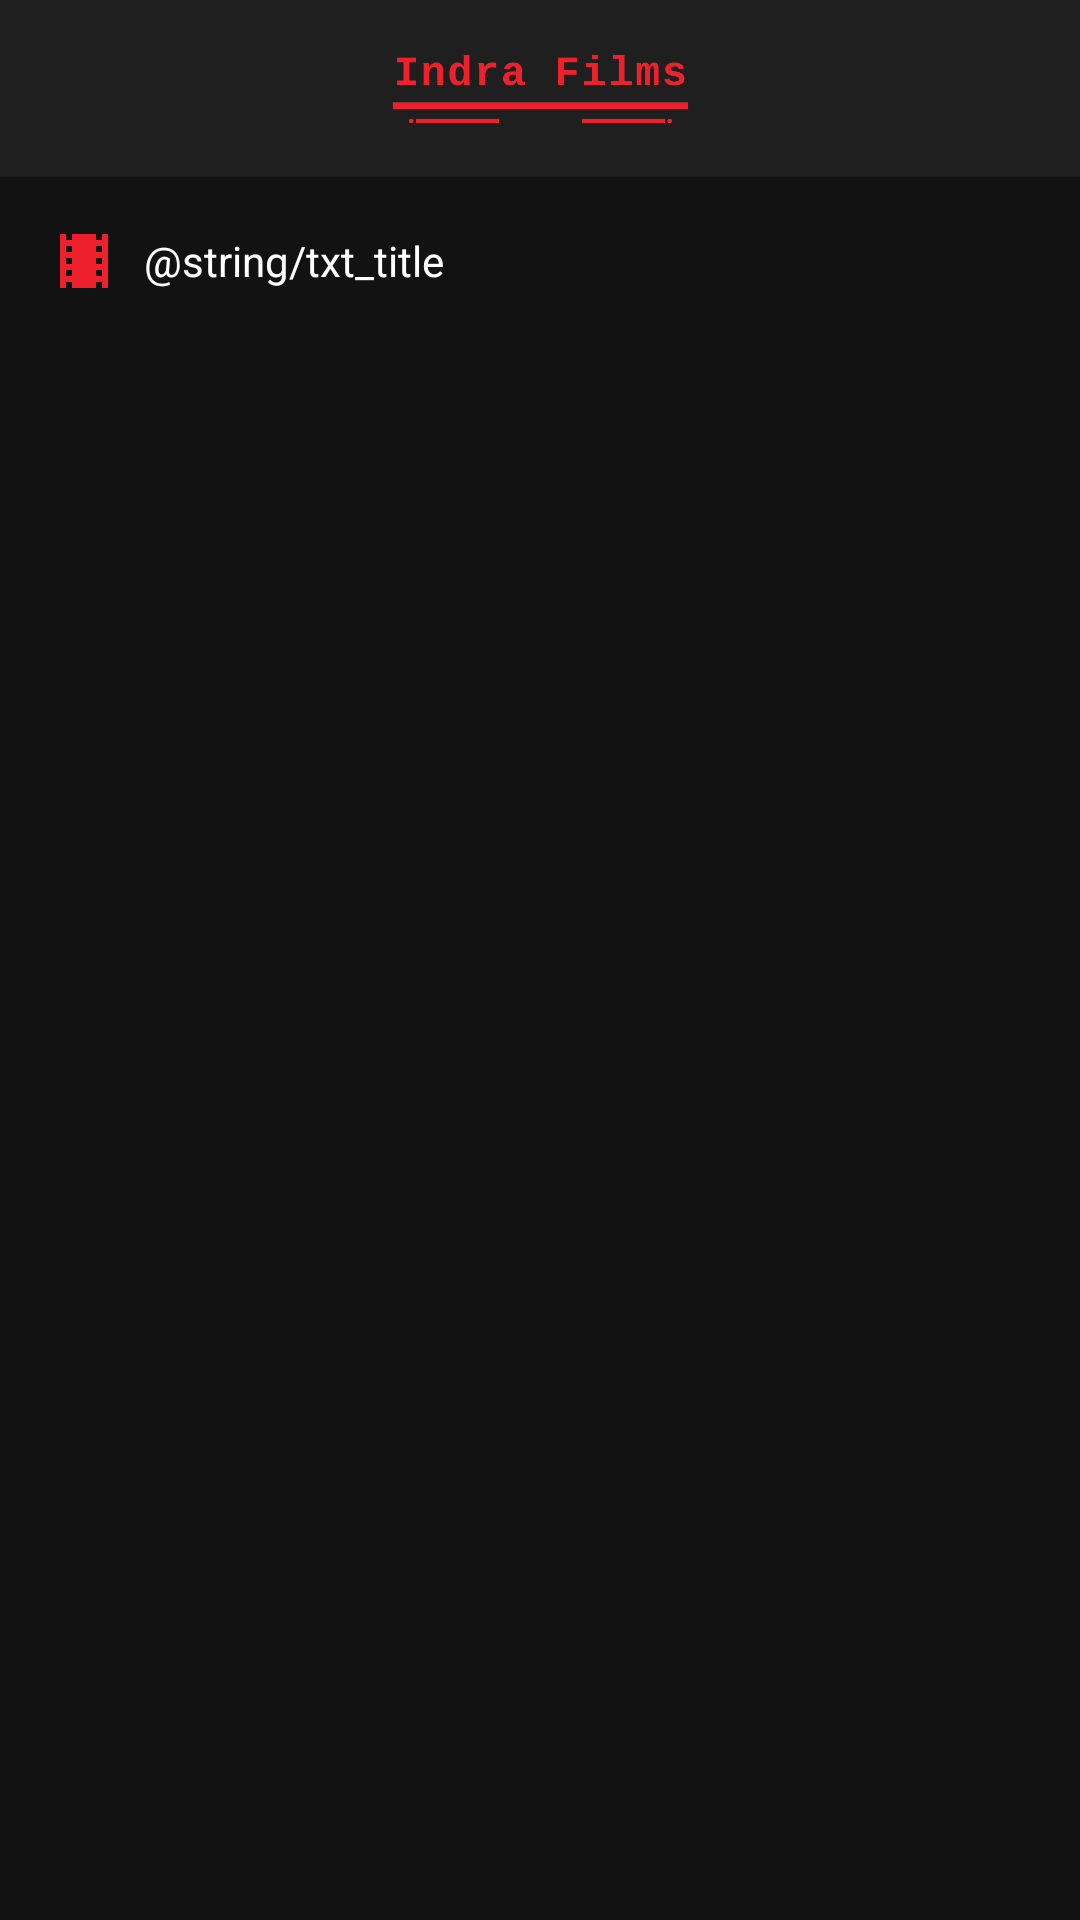

Where icons sit on this 1080×1920 app screen, as (x1, y1, x2, y2):
film: (60, 234, 108, 288)
